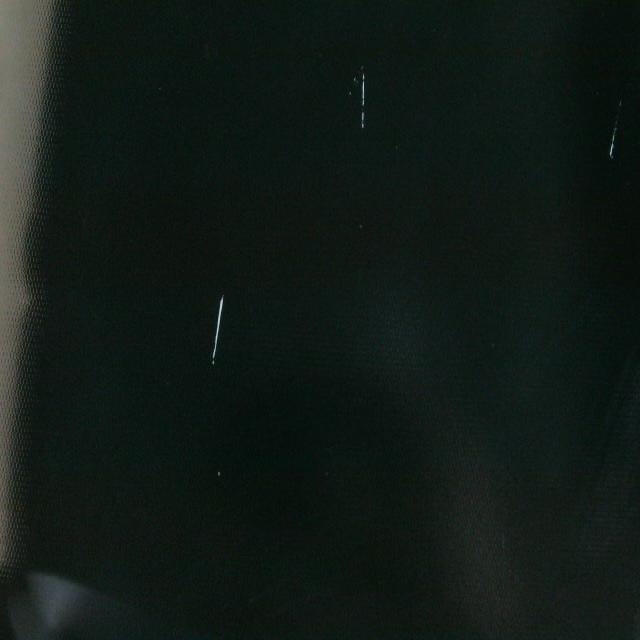scratch: (206, 288, 230, 368), (353, 63, 375, 137), (605, 100, 626, 163)
very small scratch: (212, 460, 226, 488)
